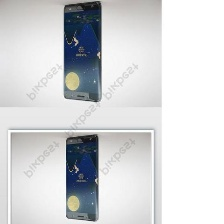phone: (60, 0, 105, 104), (62, 132, 102, 224)
